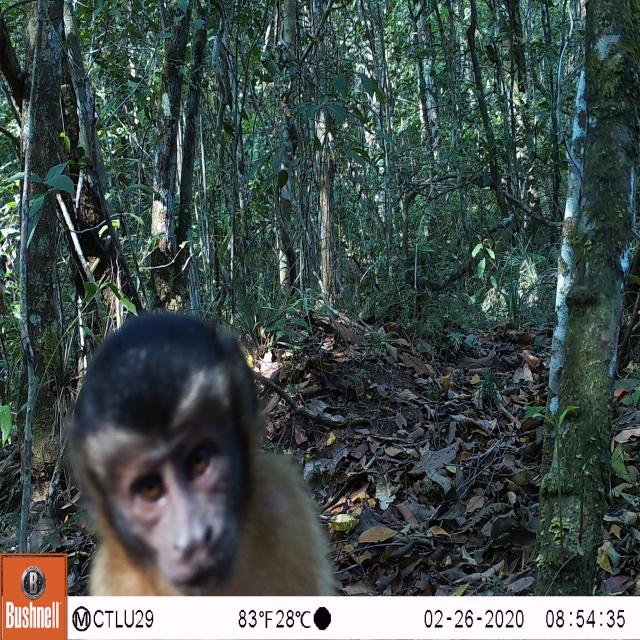Margarita Island Capuchin: (63, 298, 350, 596)
